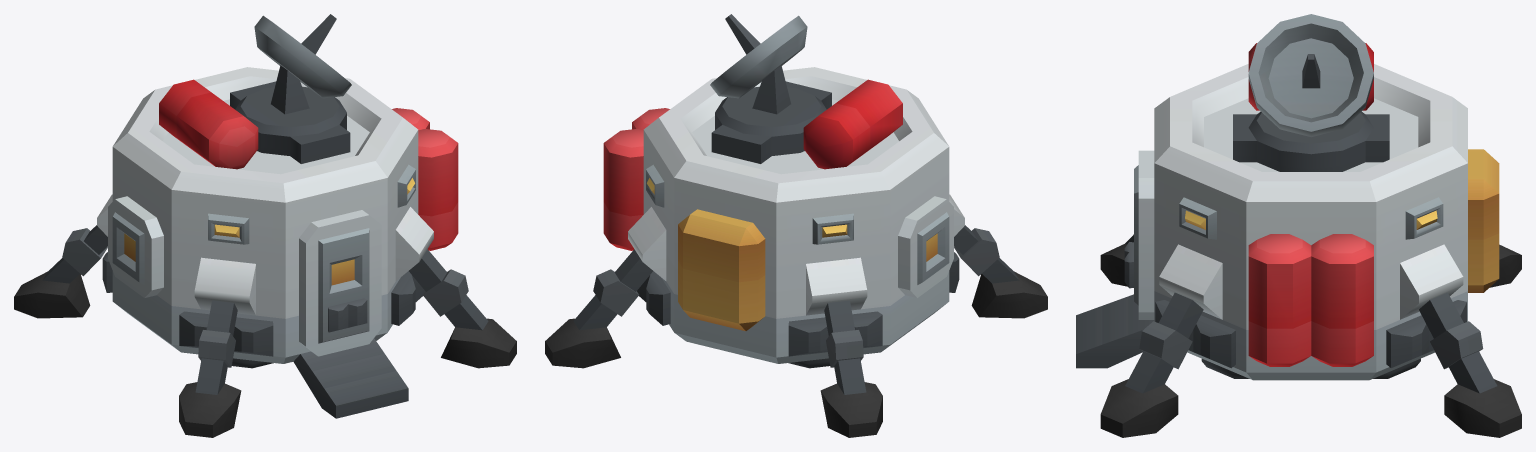
File: lander_a.glb
3 renders of one model, left to right at view 1: azimuth 30°, elevation 25°; view 2: azimuth 150°, elevation 25°; view 3: azimuth 270°, elevation 25°, orthographic. The views are drawn at different scales.
Parts seen in each view (by area): view 1: lander_A; view 2: lander_A; view 3: lander_A.
Part boxes in pixels (x1,y1,x2,y2): lander_A: [14, 14, 516, 437]; lander_A: [545, 14, 1047, 437]; lander_A: [1076, 14, 1521, 437].
Bounding box in the file's own units: 1.37 × 1.19 × 1.42.
1 material, 1 textured.
